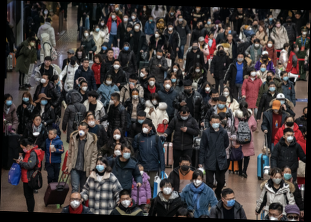mask_weared_incorrect: (87, 117, 96, 127), (192, 43, 199, 50)
with_mask: (120, 196, 132, 209), (69, 197, 81, 209), (162, 184, 174, 196), (225, 196, 237, 208), (95, 162, 106, 174), (268, 211, 281, 221), (180, 162, 191, 173), (283, 170, 293, 182), (122, 149, 132, 160), (193, 177, 203, 188), (272, 175, 283, 185), (39, 97, 49, 107), (77, 127, 87, 137), (211, 120, 221, 130), (285, 133, 295, 143), (40, 75, 49, 85), (113, 131, 122, 141), (141, 125, 151, 134), (288, 214, 300, 221), (286, 119, 295, 128), (114, 147, 122, 157), (180, 113, 190, 121), (5, 98, 13, 107), (21, 146, 30, 154), (132, 92, 140, 101), (164, 81, 172, 90), (212, 93, 220, 102), (218, 102, 227, 110), (220, 117, 228, 126), (22, 95, 30, 103), (110, 12, 118, 20), (184, 86, 192, 94), (223, 89, 231, 97), (278, 98, 286, 106), (269, 85, 277, 93), (266, 74, 274, 82), (128, 80, 137, 87), (109, 97, 116, 106), (137, 117, 146, 124), (149, 78, 156, 87), (56, 77, 62, 87), (81, 84, 88, 92), (134, 24, 141, 32), (113, 63, 121, 70), (139, 70, 146, 78), (156, 53, 164, 60), (151, 98, 158, 106), (238, 55, 245, 63), (283, 74, 290, 82), (139, 168, 145, 177), (30, 40, 37, 47), (84, 31, 91, 38), (154, 32, 161, 39), (172, 66, 179, 73), (170, 77, 177, 84), (205, 85, 212, 92), (254, 42, 261, 49), (262, 53, 269, 60), (105, 79, 113, 85), (261, 65, 267, 73), (114, 5, 121, 11), (100, 20, 106, 27), (95, 25, 101, 32), (70, 59, 76, 66), (124, 45, 130, 52), (167, 26, 174, 32), (227, 28, 233, 35), (218, 48, 225, 54), (195, 67, 202, 73), (237, 8, 244, 14), (253, 22, 259, 29), (251, 70, 257, 77), (131, 14, 137, 20), (123, 16, 129, 22), (102, 45, 108, 51), (178, 17, 184, 23), (304, 110, 308, 119), (218, 24, 223, 31), (273, 108, 280, 113), (303, 30, 308, 37), (269, 15, 274, 22), (44, 9, 49, 15), (77, 51, 83, 56), (170, 10, 175, 16), (199, 23, 204, 29), (207, 19, 212, 25), (279, 65, 284, 71), (268, 42, 273, 48), (296, 46, 301, 52), (276, 23, 282, 28), (287, 19, 293, 24), (196, 7, 201, 12), (150, 17, 154, 23), (215, 23, 219, 29), (254, 36, 258, 42), (166, 46, 170, 51), (143, 7, 147, 11), (159, 21, 164, 24)
without_mask: (33, 117, 42, 127), (44, 59, 52, 67), (48, 131, 55, 140), (107, 51, 114, 59), (83, 61, 90, 68), (93, 57, 100, 64), (88, 95, 94, 102), (199, 40, 205, 46), (126, 26, 131, 33), (228, 35, 233, 42), (67, 53, 73, 58), (210, 34, 215, 39), (259, 26, 264, 31), (296, 14, 300, 20), (307, 24, 311, 28)
